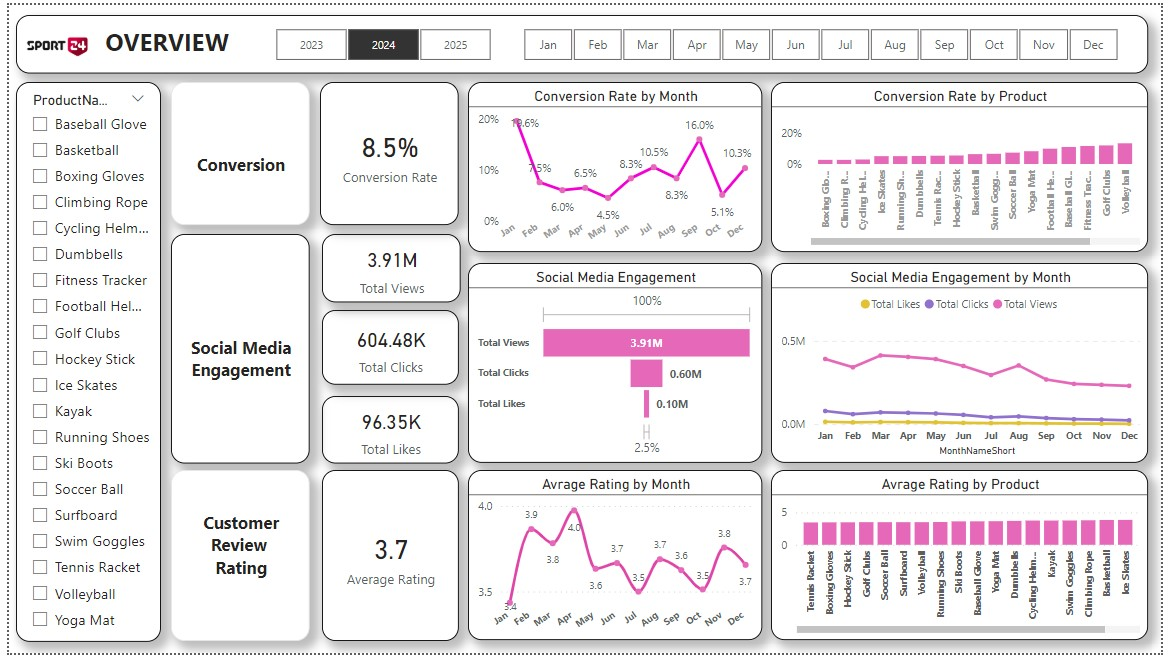

The page's visual inventory and layout, read from the dashboard file:
{"tool":"powerbi","page":{"name":"Overview","canvas":[1280,720],"ordinal":0},"visuals":[{"type":"textbox","box":[8,11.4,1257.7,64.9],"z":0},{"type":"card","title":"Total Likes","fields":{"Values":["Measures_.TotalLikes"]},"box":[347.5,434.1,151.5,75.2],"z":1000},{"type":"slicer","fields":{"Values":["Calendar.Date.Variation.Date Hierarchy.Year"]},"box":[271.1,20.5,288.2,47.8],"z":2000},{"type":"slicer","fields":{"Values":["Calendar.MonthNameShort"]},"box":[546.8,20.5,708.6,47.8],"z":3000},{"type":"slicer","fields":{"Values":["dim_products.ProductName"]},"box":[8,85.4,160.6,622],"z":4000},{"type":"textbox","box":[180,85.4,153.8,159.5],"z":5000},{"type":"textbox","box":[180,254.1,153.8,255.2],"z":6000},{"type":"textbox","box":[180,517.2,153.8,190.3],"z":7000},{"type":"card","title":"Total Clicks","fields":{"Values":["Measures_.TotalClicks"]},"box":[347.5,338.4,151.5,83.2],"z":8000},{"type":"card","title":"Total Views","fields":{"Values":["Measures_.TotalViews"]},"box":[347.5,254.1,153.8,76.3],"z":9000},{"type":"card","title":"Conversion Rate","fields":{"Values":["Measures_.Conversion Rate"]},"box":[345.2,85.4,153.8,159.5],"z":10000},{"type":"card","title":"No Of Customer Reviews","fields":{"Values":["Measures_.Avrage Rating"]},"box":[347.5,517.2,151.5,190.3],"z":11000},{"type":"lineChart","title":"Conversion Rate by Month","fields":{"Category":["Calendar.MonthNameShort"],"Y":["Measures_.Conversion Rate"]},"box":[510.4,85.4,327,189.1],"z":12000},{"type":"columnChart","title":"Conversion Rate by Product","fields":{"Y":["Measures_.Conversion Rate"],"Category":["dim_products.ProductName"]},"box":[846.5,85.4,419.2,189.1],"z":13000},{"type":"funnel","title":"Social Media Engagement","fields":{"Y":["Measures_.Total Views","Measures_.Total Clicks","Measures_.Total Likes"]},"box":[510.4,287.1,327,222.2],"z":14000},{"type":"lineChart","title":"Social Media Engagement by Month","fields":{"Category":["Calendar.MonthNameShort"],"Y":["Measures_.Total Likes","Measures_.Total Clicks","Measures_.Total Views"]},"box":[846.5,287.1,419.2,222.2],"z":15000},{"type":"lineChart","title":"Avrage Rating by Month","fields":{"Category":["Calendar.MonthNameShort"],"Y":["Measures_.Avrage Rating"]},"box":[510.4,517.2,327,189.1],"z":16000},{"type":"columnChart","title":"Avrage Rating by Product","fields":{"Y":["Measures_.Avrage Rating"],"Category":["dim_products.ProductName"]},"box":[846.5,517.2,419.2,189.1],"z":17000},{"type":"image","box":[8,0,92.3,92.3],"z":17001}]}

Visuals, with their boxes in screenshot pixels (x1, y1, x2, y2), scaled from the page's 1280x720 canvas onto the 1169x659 screenshot:
textbox: BBox(7, 10, 1156, 70)
"Total Likes" card: BBox(317, 397, 456, 466)
slicer - Calendar.Date.Variation.Date Hierarchy.Year: BBox(248, 19, 511, 63)
slicer - Calendar.MonthNameShort: BBox(499, 19, 1147, 63)
slicer - dim_products.ProductName: BBox(7, 78, 154, 647)
textbox: BBox(164, 78, 305, 224)
textbox: BBox(164, 233, 305, 466)
textbox: BBox(164, 473, 305, 648)
"Total Clicks" card: BBox(317, 310, 456, 386)
"Total Views" card: BBox(317, 233, 458, 302)
"Conversion Rate" card: BBox(315, 78, 456, 224)
"No Of Customer Reviews" card: BBox(317, 473, 456, 648)
"Conversion Rate by Month" lineChart: BBox(466, 78, 765, 251)
"Conversion Rate by Product" columnChart: BBox(773, 78, 1156, 251)
"Social Media Engagement" funnel: BBox(466, 263, 765, 466)
"Social Media Engagement by Month" lineChart: BBox(773, 263, 1156, 466)
"Avrage Rating by Month" lineChart: BBox(466, 473, 765, 646)
"Avrage Rating by Product" columnChart: BBox(773, 473, 1156, 646)
image: BBox(7, 0, 92, 84)
